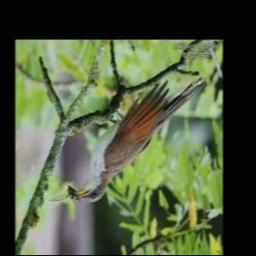Cuckoo: (75, 77, 207, 202)
